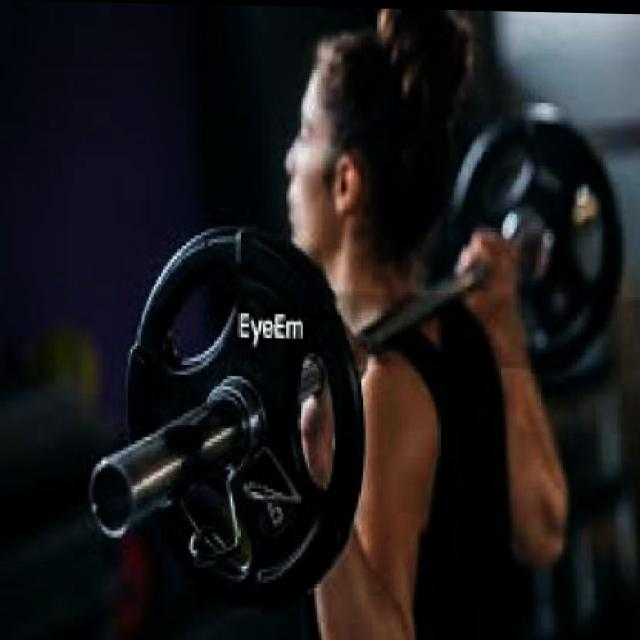barbell: (88, 218, 366, 611)
